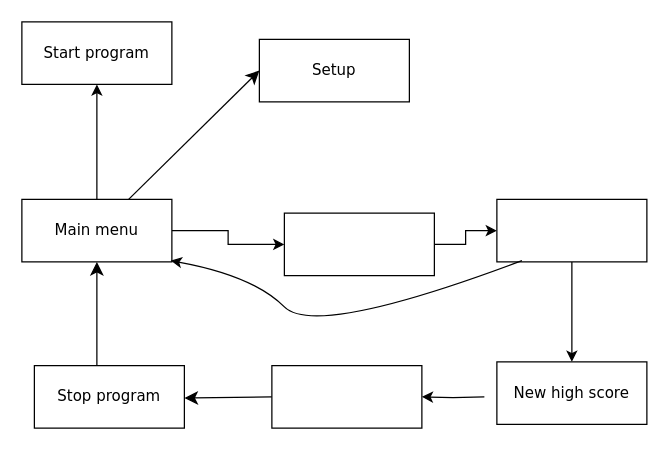
Image size: 669x450. Some labels were removed from this diagram. The shapes that lost their labels are listed below. From the top down, each one's centre as x and y in pixels, then its label:
pixel 358 244: Locate all the battleships
pixel 571 230: Attack enemies battleships
pixel 346 396: Ranking
